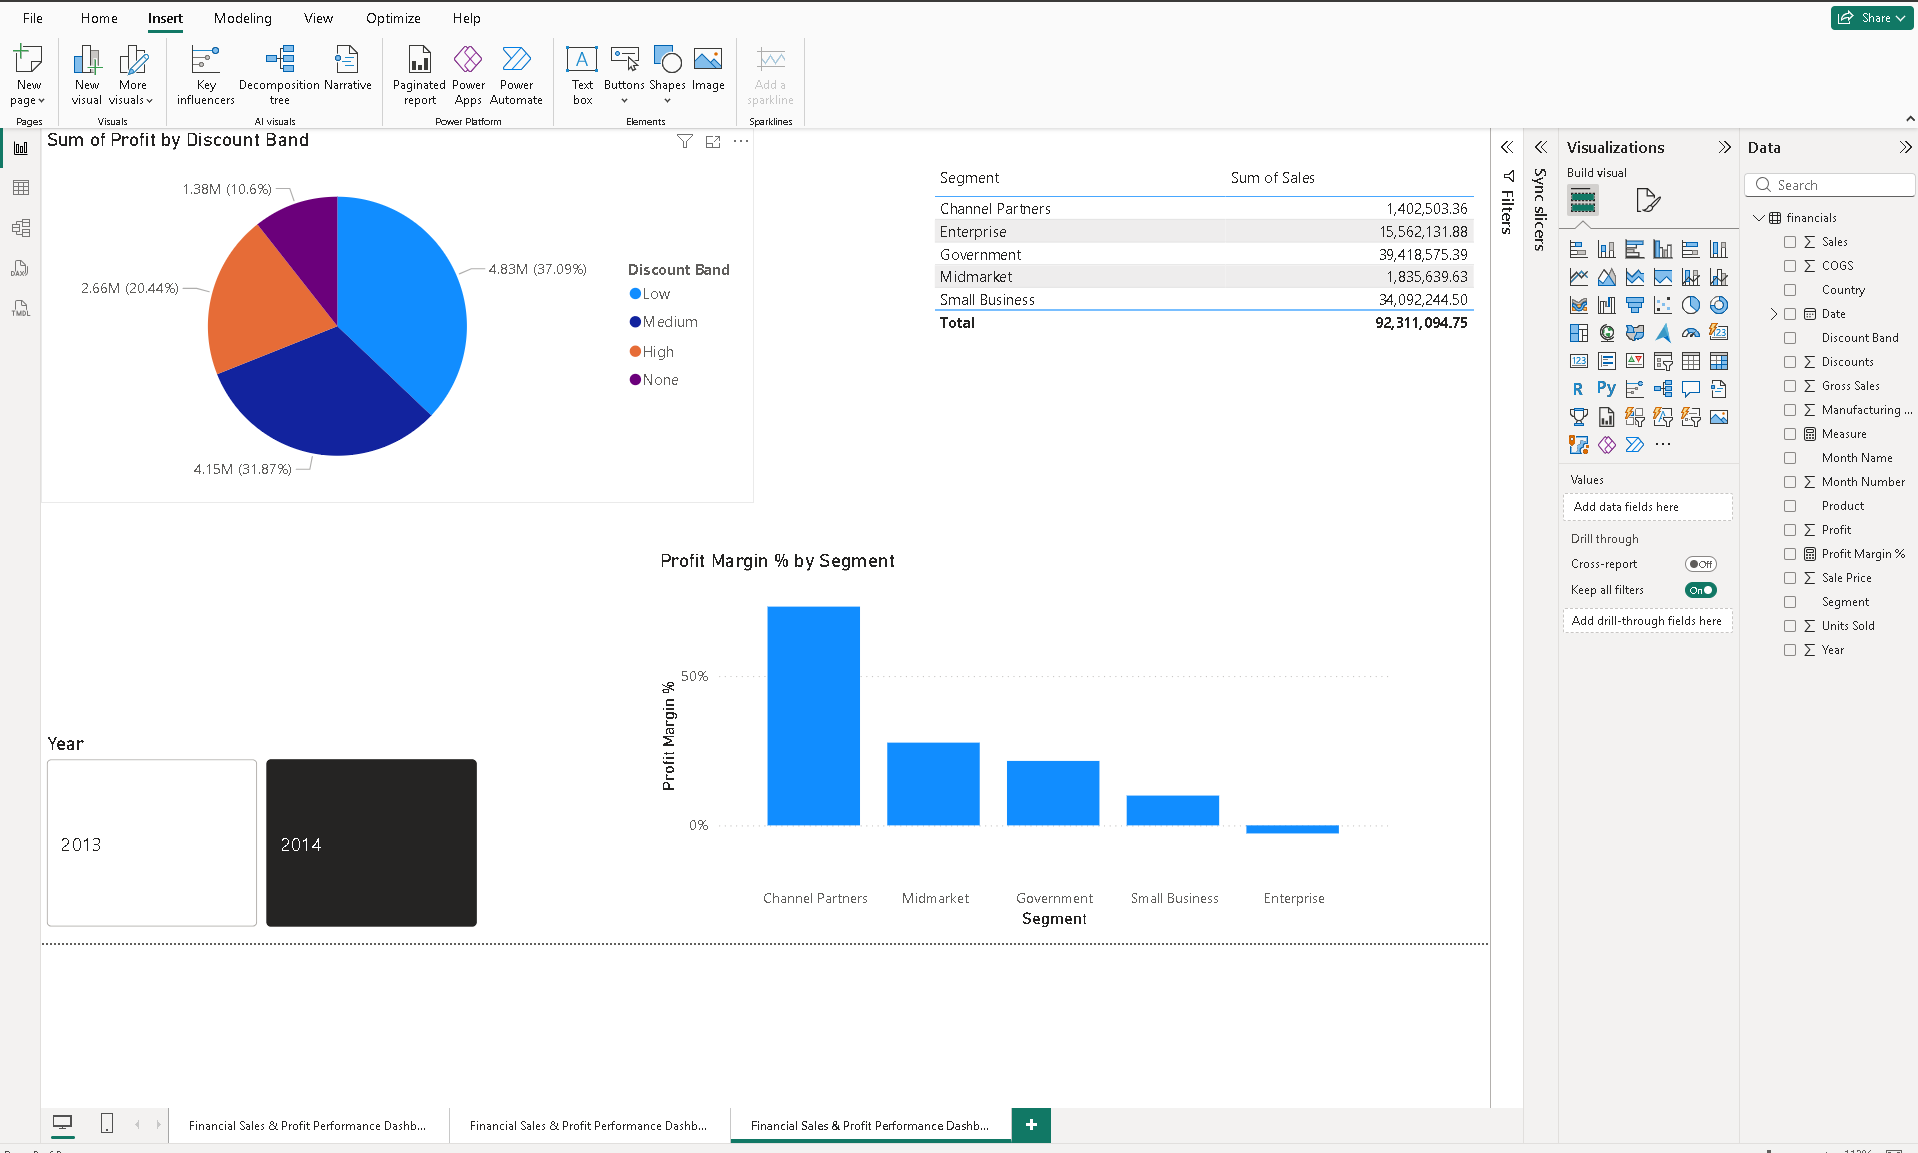

What the dashboard file says about the page in this screenshot:
{"tool":"powerbi","page":{"name":"Financial Sales & Profit Performance Dashboard","canvas":[1280,720],"ordinal":2},"visuals":[{"type":"pieChart","fields":{"Category":["financials.Discount Band"],"Y":["Sum(financials.Profit)"]},"box":[0,0,629.6,331.2],"z":0},{"type":"tableEx","fields":{"Values":["financials.Segment","Sum(financials. Sales)"]},"box":[783.2,28.5,496.8,331.2],"z":1},{"type":"clusteredColumnChart","fields":{"Y":["financials.Profit Margin %"],"Category":["financials.Segment"]},"box":[541.3,372.3,655.2,338.9],"z":2},{"type":"advancedSlicerVisual","fields":{"Values":["financials.Year"]},"box":[0,533.4,392,177.8],"z":3}]}

Visuals, with their boxes on the page's 1280x720 design canvas (x1, y1, x2, y2). These are canvas units, not pixel positions in the 1918x1153 screenshot, which may show the page scaled, cropped or inside an application window:
pieChart - financials.Discount Band x Sum(financials.Profit): (0,0,630,331)
tableEx - financials.Segment x Sum(financials. Sales): (783,28,1280,360)
clusteredColumnChart - financials.Profit Margin % x financials.Segment: (541,372,1196,711)
advancedSlicerVisual - financials.Year: (0,533,392,711)
